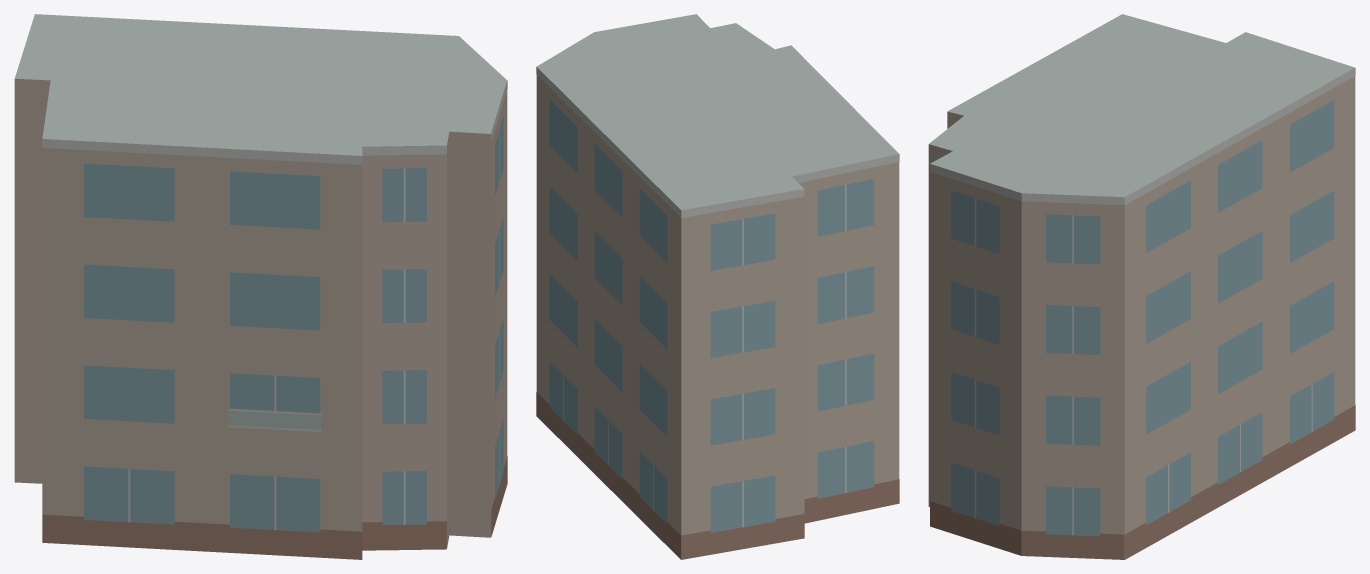
Rendered from survey-upis-32507281.glb.
3 views of the same model, side by side, from view 1: azimuth 30°, elevation 25°; view 2: azimuth 150°, elevation 25°; view 3: azimuth 270°, elevation 25° (orthographic). The views are drawn at different scales.
Visible parts, largest first — view 1: survey-upis-32507281.tmp; view 2: survey-upis-32507281.tmp; view 3: survey-upis-32507281.tmp.
Boxes of the visible parts, <box> form: survey-upis-32507281.tmp: <box>14,14,507,559</box>; survey-upis-32507281.tmp: <box>536,14,899,559</box>; survey-upis-32507281.tmp: <box>928,14,1355,559</box>.
Size of the model in its own units: 11.93 by 11 by 11.75.
